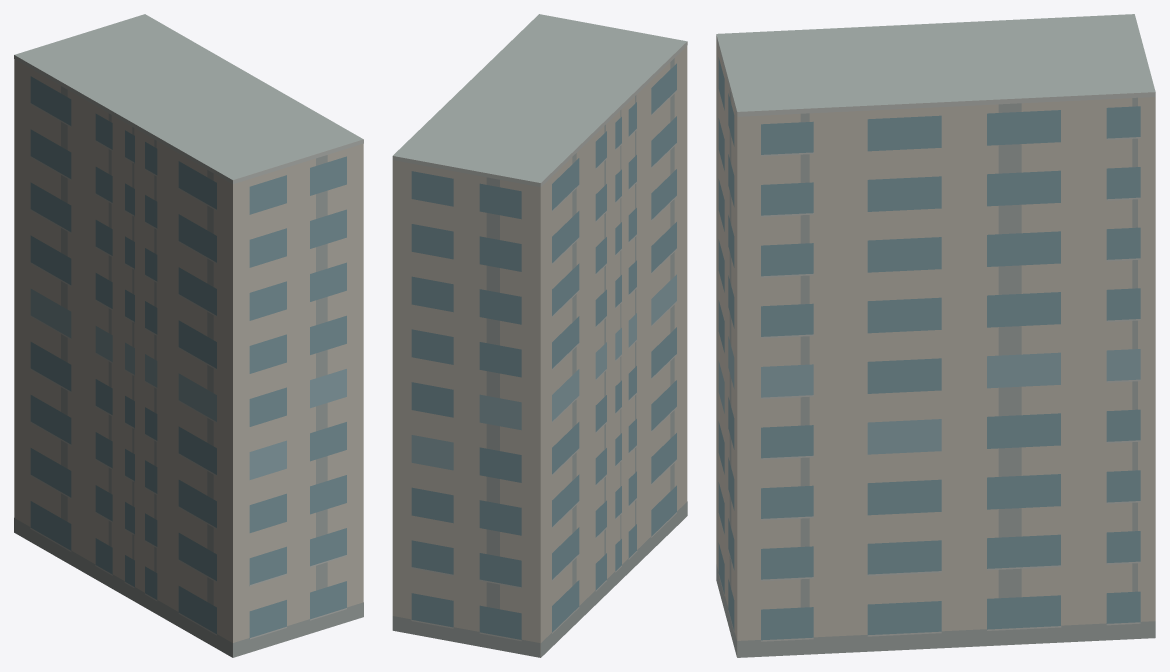
File: survey-upis-32733623.glb
3 renders of one model, left to right at view 1: azimuth 30°, elevation 25°; view 2: azimuth 150°, elevation 25°; view 3: azimuth 270°, elevation 25°, orthographic. The views are drawn at different scales.
Parts seen in each view (by area): view 1: survey-upis-32733623.tmp; view 2: survey-upis-32733623.tmp; view 3: survey-upis-32733623.tmp.
Part boxes in pixels (bbox=[...]): survey-upis-32733623.tmp: bbox=[14, 14, 363, 657]; survey-upis-32733623.tmp: bbox=[392, 14, 687, 657]; survey-upis-32733623.tmp: bbox=[716, 14, 1155, 657].
Size of the model in its own units: 10.67 by 27.7 by 20.22.
